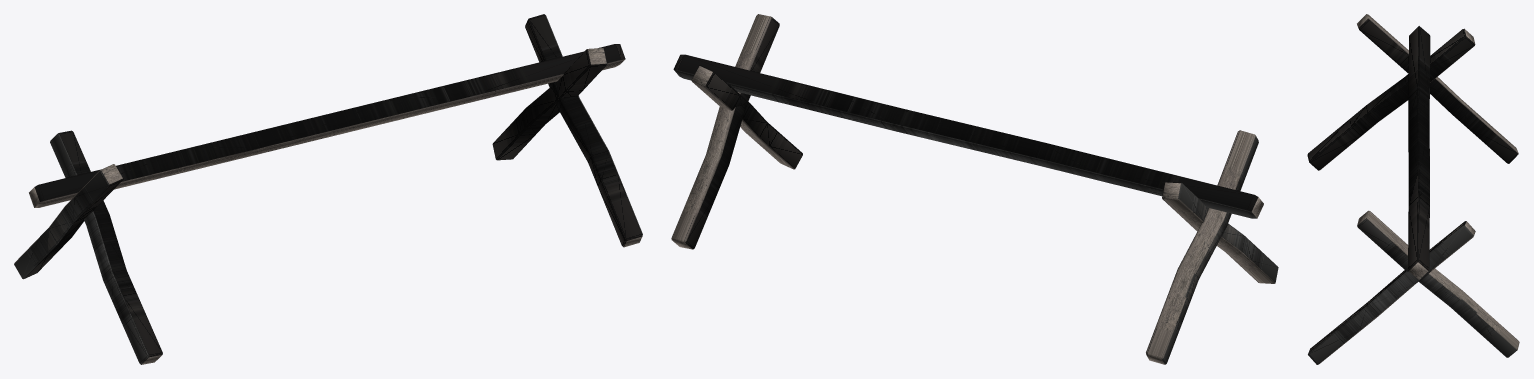
File: baricade1_LOD0.fbx
The picture shows the model from 3 angles, left to right: view 1: azimuth 30°, elevation 25°; view 2: azimuth 150°, elevation 25°; view 3: azimuth 270°, elevation 25°; orthographic projection. The views are drawn at different scales.
Parts seen in each view (by area): view 1: baricade1_LOD0; view 2: baricade1_LOD0; view 3: baricade1_LOD0.
Boxes of the visible parts, x1=… form: baricade1_LOD0: x1=14, y1=14, x2=642, y2=364; baricade1_LOD0: x1=671, y1=14, x2=1278, y2=364; baricade1_LOD0: x1=1307, y1=14, x2=1519, y2=364.
Bounding box in the file's own units: 4.11 × 1.2 × 1.55.
